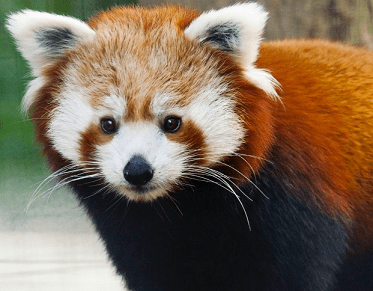red_panda: (4, 10, 373, 281)
